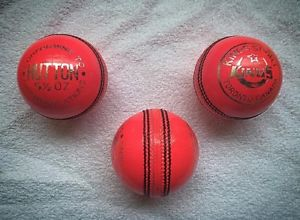red ball: (110, 108, 200, 198), (16, 34, 108, 120), (192, 35, 283, 120)
